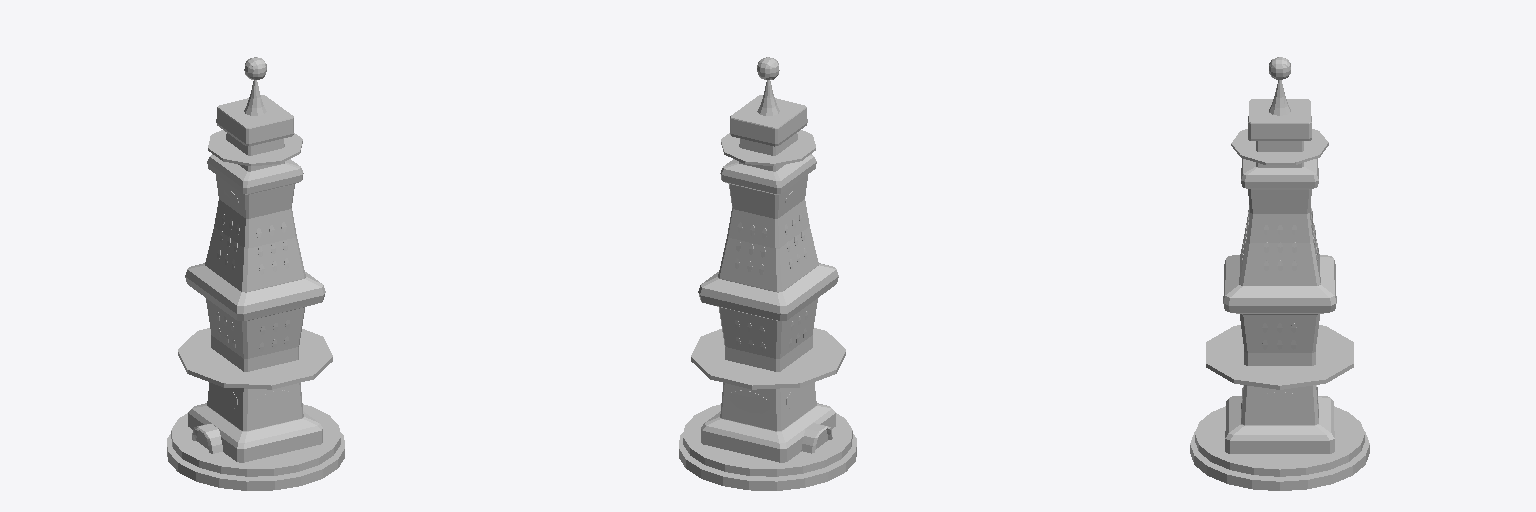
The model's file is tower.obj.
The picture shows the model from 3 angles: view 1: azimuth 30°, elevation 25°; view 2: azimuth 150°, elevation 25°; view 3: azimuth 270°, elevation 25°; orthographic projection.
Parts seen in each view (by area): view 1: Skyskraper_2_Island_Material1_0.1; view 2: Skyskraper_2_Island_Material1_0.1; view 3: Skyskraper_2_Island_Material1_0.1.
Boxes of the visible parts, x1=… form: Skyskraper_2_Island_Material1_0.1: x1=167, y1=57, x2=344, y2=490; Skyskraper_2_Island_Material1_0.1: x1=679, y1=57, x2=856, y2=490; Skyskraper_2_Island_Material1_0.1: x1=1190, y1=57, x2=1369, y2=490.
Size of the model in its own units: 1353 by 3275 by 1353.